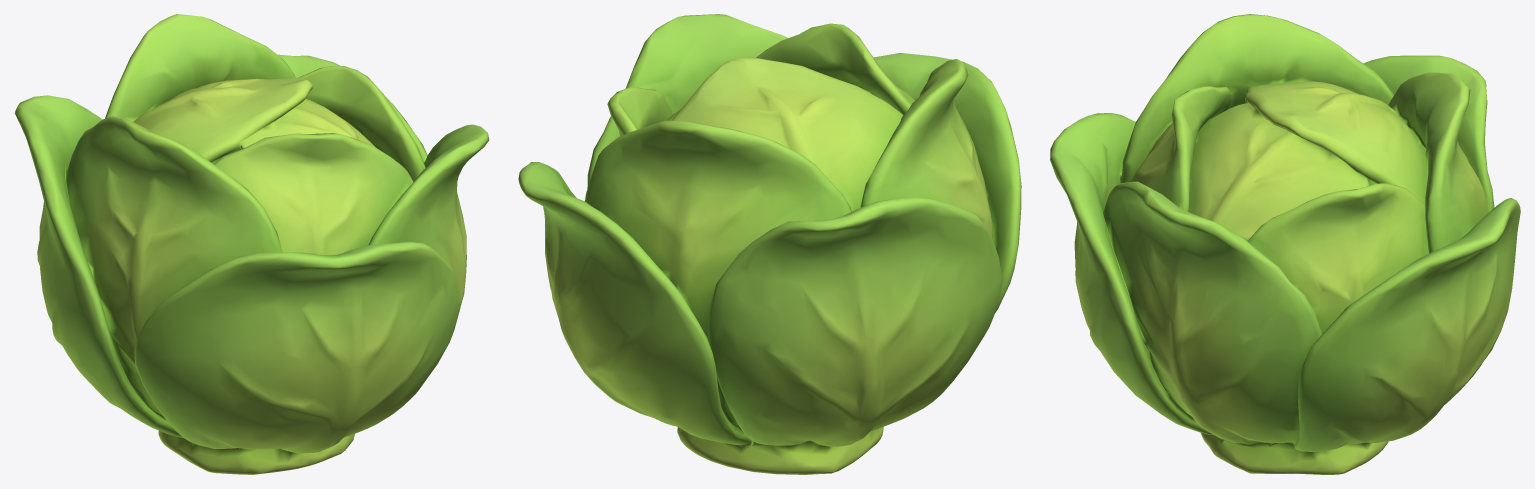
File: cabbage_4k.glb
3 renders of one model, left to right at view 1: azimuth 30°, elevation 25°; view 2: azimuth 150°, elevation 25°; view 3: azimuth 270°, elevation 25°, orthographic. The views are drawn at different scales.
Parts seen in each view (by area): view 1: tripo_node_037c8b53-38f4-4d28-b2e4-917cd733979b; view 2: tripo_node_037c8b53-38f4-4d28-b2e4-917cd733979b; view 3: tripo_node_037c8b53-38f4-4d28-b2e4-917cd733979b.
Part boxes in pixels (box(x1,y1,x2,y2)): tripo_node_037c8b53-38f4-4d28-b2e4-917cd733979b: box(14, 14, 489, 474); tripo_node_037c8b53-38f4-4d28-b2e4-917cd733979b: box(518, 14, 1021, 474); tripo_node_037c8b53-38f4-4d28-b2e4-917cd733979b: box(1050, 14, 1520, 474).
Size of the model in its own units: 0.9281 by 0.8218 by 0.98.
Materials: 1 (1 with a texture image).
